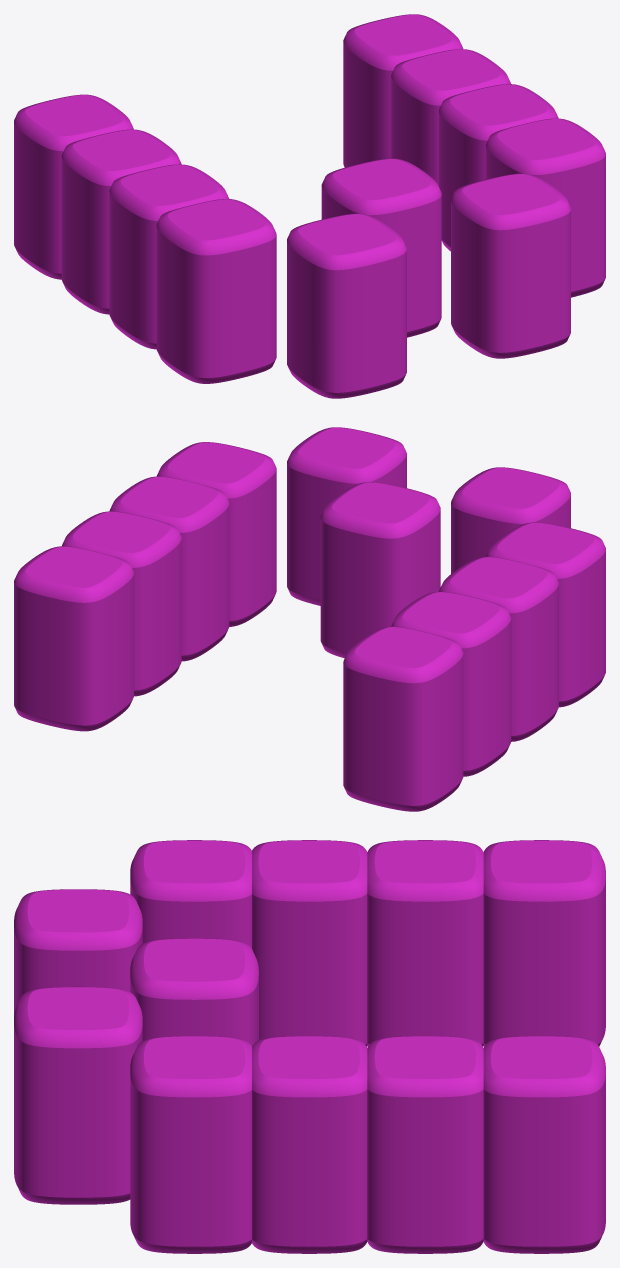
File: Letter_m_Small.fbx
3 views of the same model, one above another, from view 1: azimuth 30°, elevation 25°; view 2: azimuth 150°, elevation 25°; view 3: azimuth 270°, elevation 25° (orthographic). The views are drawn at different scales.
Parts seen in each view (by area): view 1: Letter_m; view 2: Letter_m; view 3: Letter_m.
Part boxes in pixels (bbox=[...]): Letter_m: bbox=[14, 14, 605, 398]; Letter_m: bbox=[14, 427, 605, 811]; Letter_m: bbox=[14, 840, 605, 1253].
Size of the model in its own units: 0.4311 by 0.14 by 0.4311.
